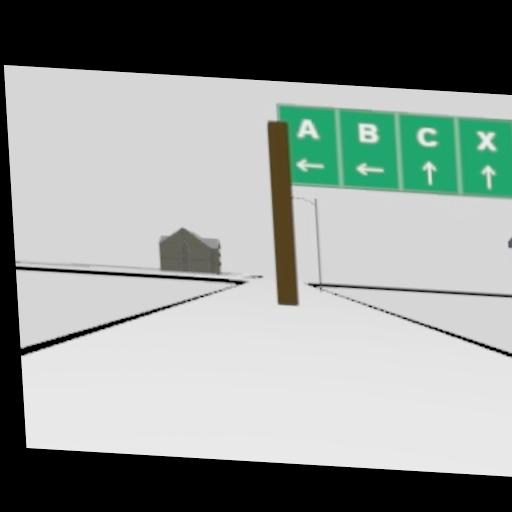A: (295, 116, 320, 138)
B: (356, 121, 379, 142)
C: (415, 124, 438, 146)
Left: (352, 161, 386, 176), (294, 157, 325, 172)
Straight: (420, 158, 437, 184), (480, 162, 495, 188)
X: (475, 128, 496, 149)
